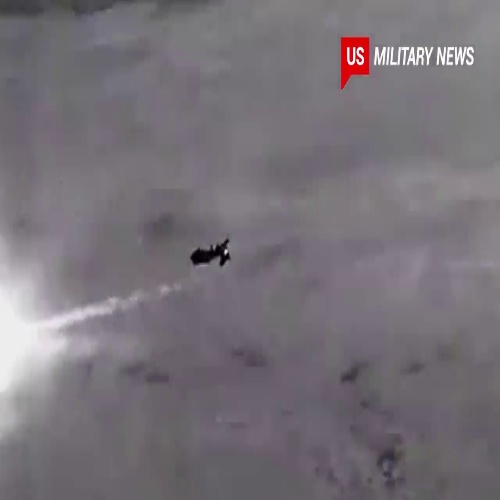uav61: (190, 237, 231, 270)
